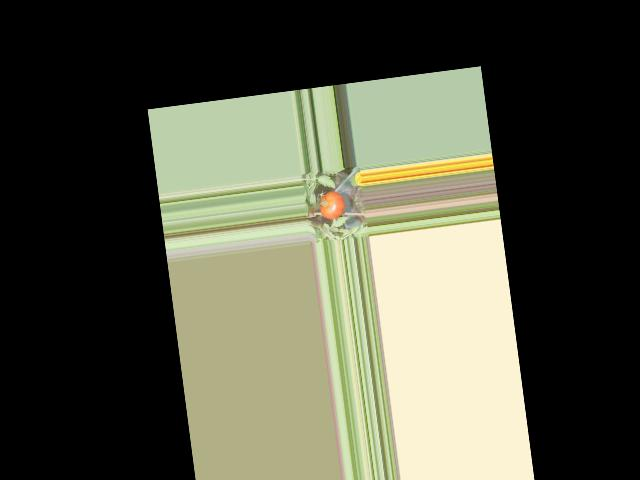tomato: (318, 190, 347, 221)
